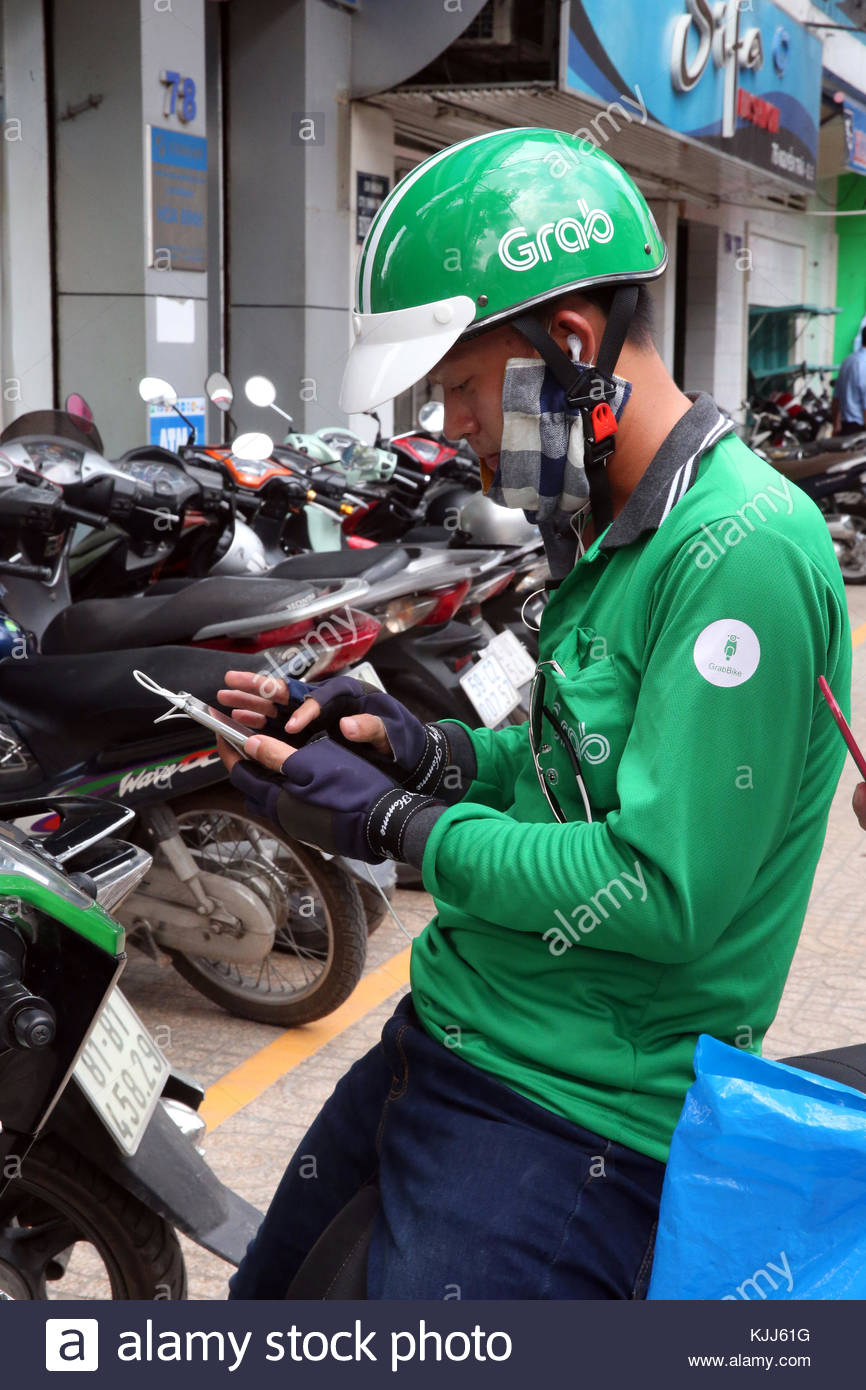su dung dien thoai: (172, 132, 661, 851)
